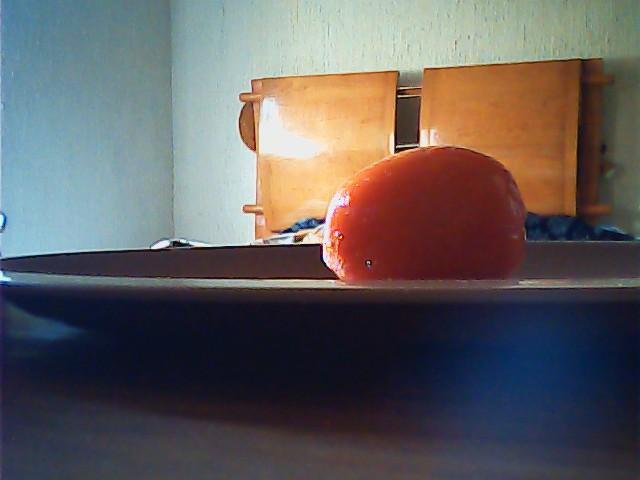maduro: (319, 144, 524, 280)
